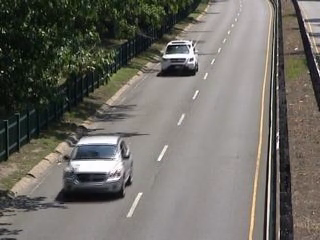car: (59, 132, 134, 200), (157, 38, 203, 81)
